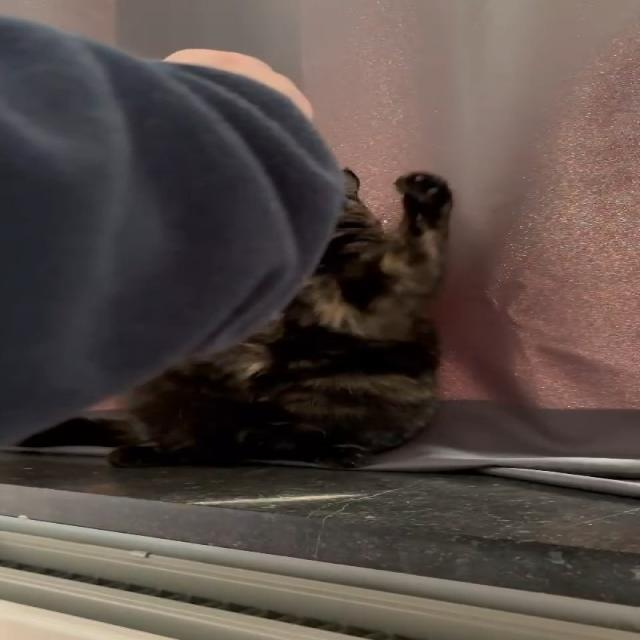authorized: (102, 166, 454, 469)
